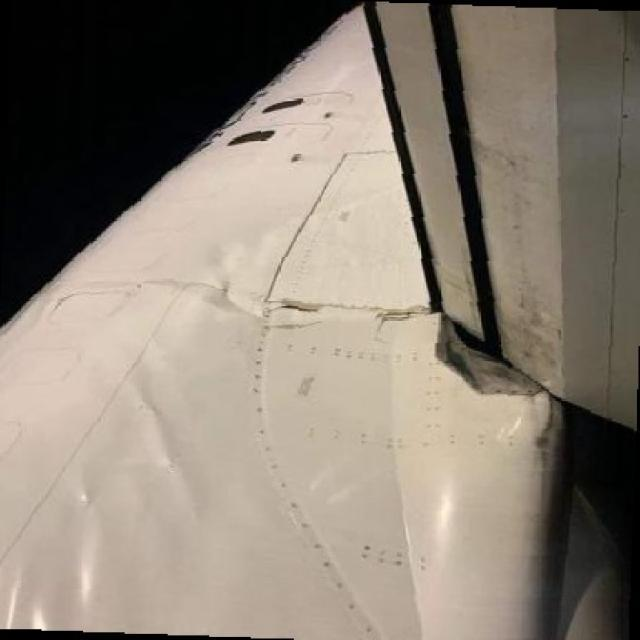dent: (126, 387, 186, 510), (69, 486, 111, 615), (181, 250, 254, 318), (3, 570, 51, 632)
